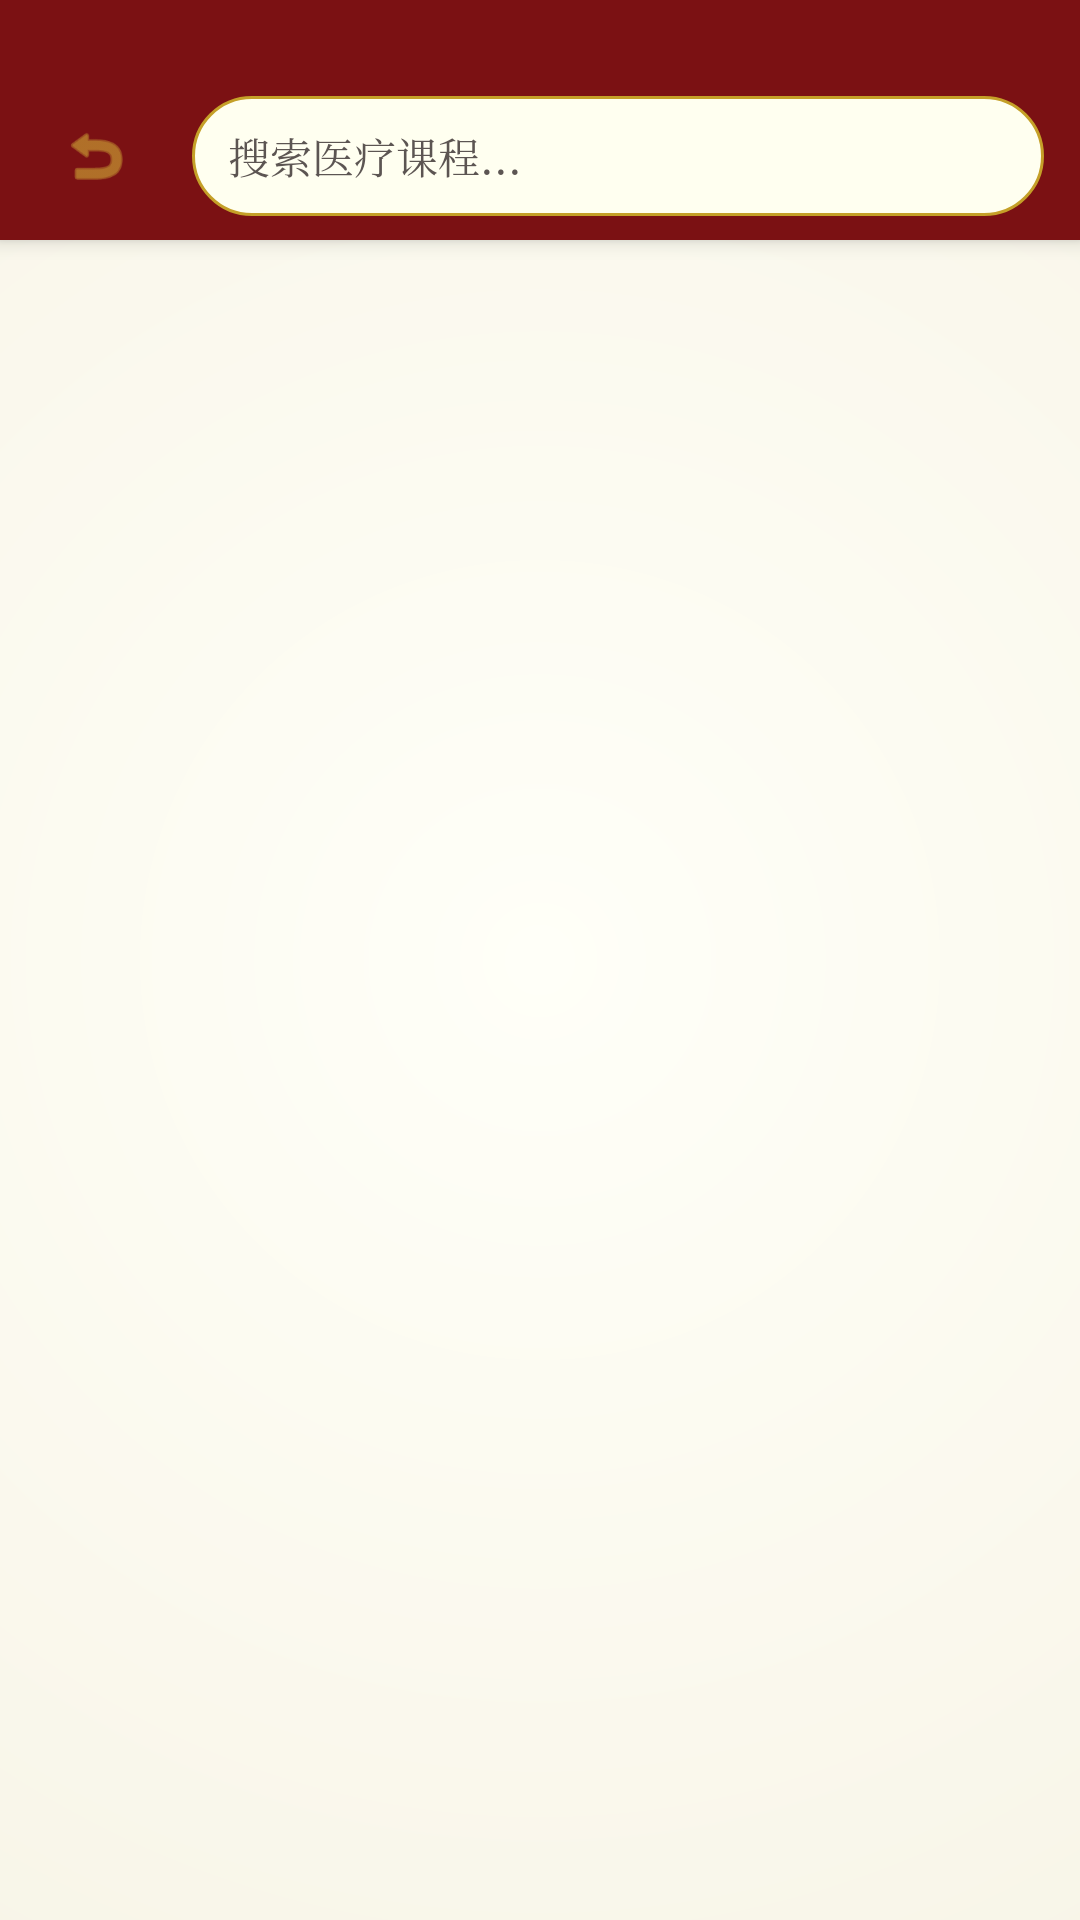

Where to tap for icons on this 1080×1920 app screen, as point (x, y):
revert: point (97, 156)
